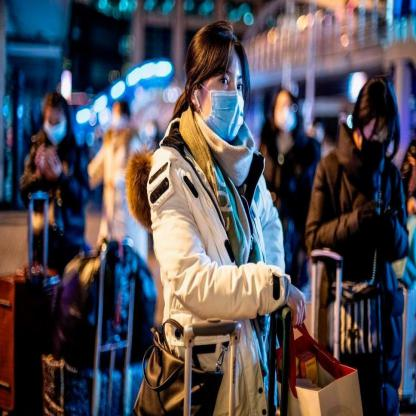Wearing_Mask: (203, 66, 244, 140), (356, 122, 390, 164), (272, 95, 296, 132), (42, 112, 67, 146)
